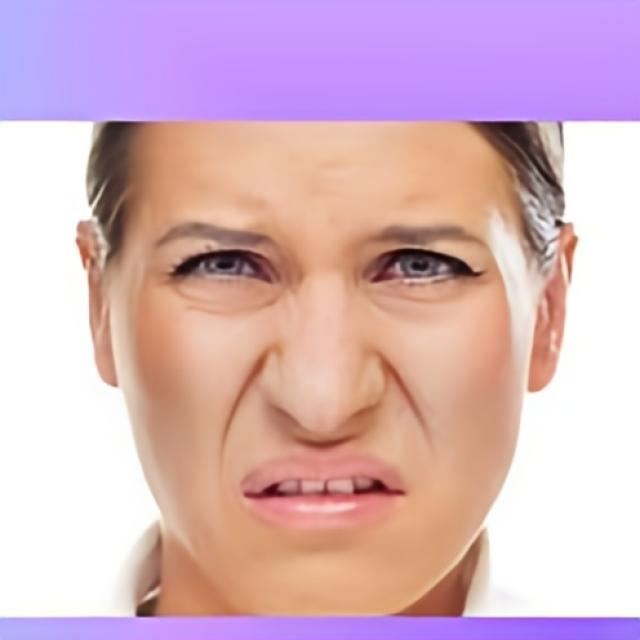disgust: (110, 122, 536, 616)
